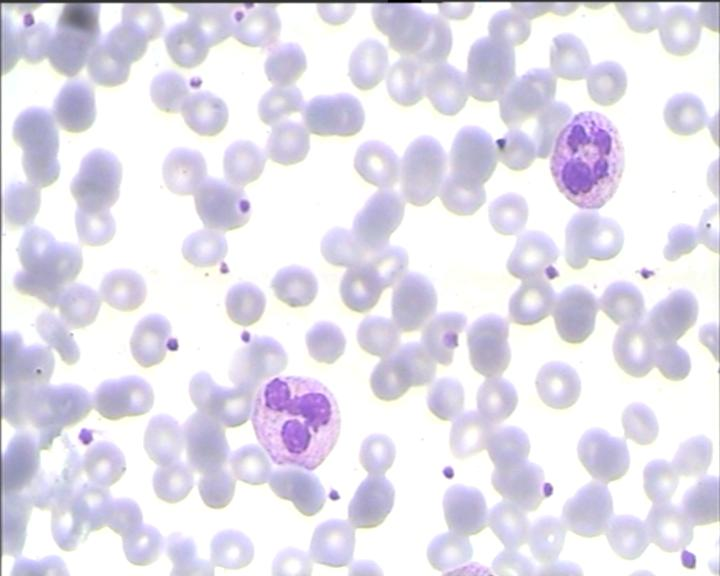neut: (254, 367, 345, 473), (546, 106, 627, 216)
